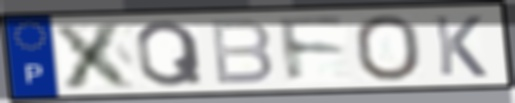B: (206, 17, 276, 87)
F: (274, 15, 351, 86)
K: (430, 13, 490, 79)
O: (351, 13, 424, 84)
Q: (133, 18, 207, 89)
X: (50, 19, 141, 90)
